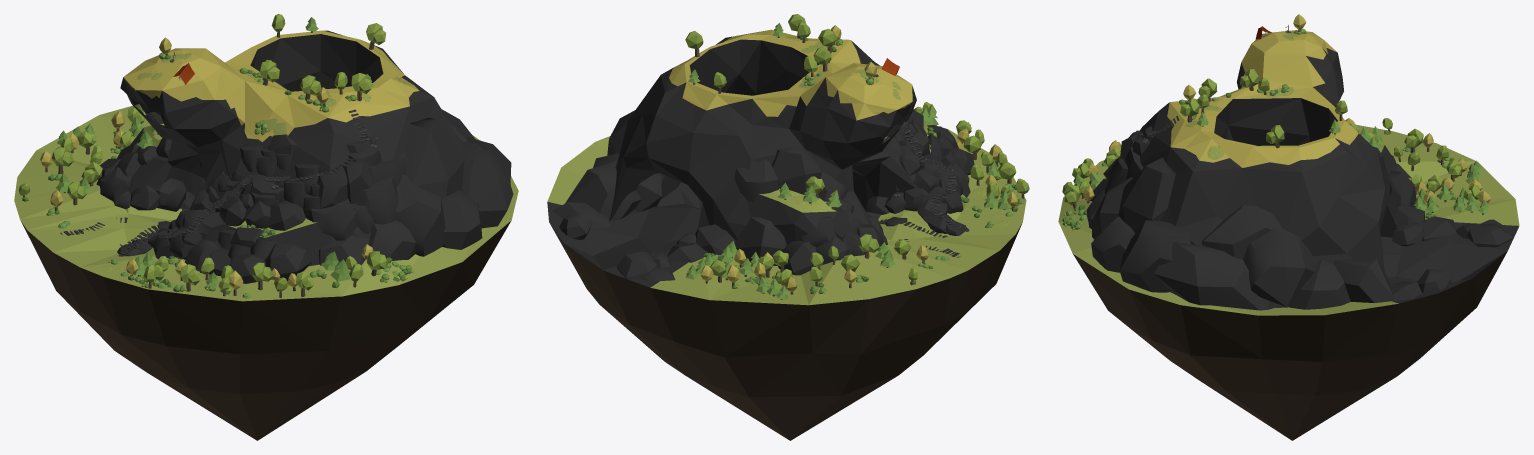
The picture shows the model from 3 angles, left to right: view 1: azimuth 30°, elevation 25°; view 2: azimuth 150°, elevation 25°; view 3: azimuth 270°, elevation 25°; orthographic projection. The views are drawn at different scales.
Parts seen in each view (by area): view 1: Cavern Freaky Turtle, Circle.043, Circle.042, Circle.040, Circle.041, Circle.034, Another Stone.011, Circle.036, Circle.014, Circle.004, Circle.035, Circle.005 (+12 smaller); view 2: Cavern Freaky Turtle, Circle.047, Circle.062, Circle.061, Circle.063, Circle.046, Circle.057, Circle.053, Circle.048, Circle.051, Circle.052, Circle.058 (+6 smaller); view 3: Cavern Freaky Turtle, Circle.044, Circle.045, Circle.042, Circle.043, Circle.056, Circle.047, Circle.046, Circle.041, Circle.040, Circle.053, Circle.050 (+6 smaller).
Boxes of the visible parts, x1,y1,x2,y2 form: Cavern Freaky Turtle: (14,30,518,440); Circle.043: (405,117,464,200); Circle.042: (460,142,513,228); Circle.040: (394,174,445,256); Circle.041: (442,190,482,249); Circle.034: (369,220,417,260); Another Stone.011: (355,176,398,224); Circle.036: (303,203,357,240); Circle.014: (264,242,312,281); Circle.004: (317,164,347,208); Circle.035: (319,235,369,265); Circle.005: (267,200,305,230); Cavern Freaky Turtle: (547,29,1026,440); Circle.047: (565,161,641,220); Circle.062: (772,147,821,194); Circle.061: (734,217,787,265); Circle.063: (734,160,778,201); Circle.046: (593,153,661,212); Circle.057: (777,241,816,275); Circle.053: (616,251,657,278); Circle.048: (695,224,735,255); Circle.051: (552,202,610,229); Circle.052: (559,213,591,239); Circle.058: (800,216,836,247); Cavern Freaky Turtle: (1058,30,1519,440); Circle.044: (1153,242,1273,310); Circle.045: (1243,227,1315,307); Circle.042: (1119,220,1190,292); Circle.043: (1118,157,1175,233); Circle.056: (1201,205,1281,259); Circle.047: (1333,257,1393,302); Circle.046: (1289,259,1350,309); Circle.041: (1091,216,1134,272); Circle.040: (1092,177,1132,239); Circle.053: (1467,223,1513,247); Circle.050: (1419,216,1456,241).
Bounding box in the file's own units: 6227 × 5771 × 6224.
Materials: 2 (1 with a texture image).
